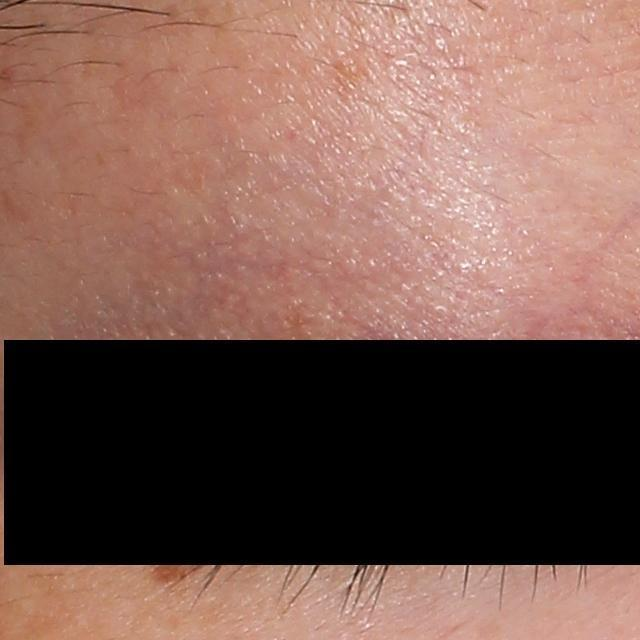melasma: (139, 545, 226, 589), (325, 57, 385, 100)
